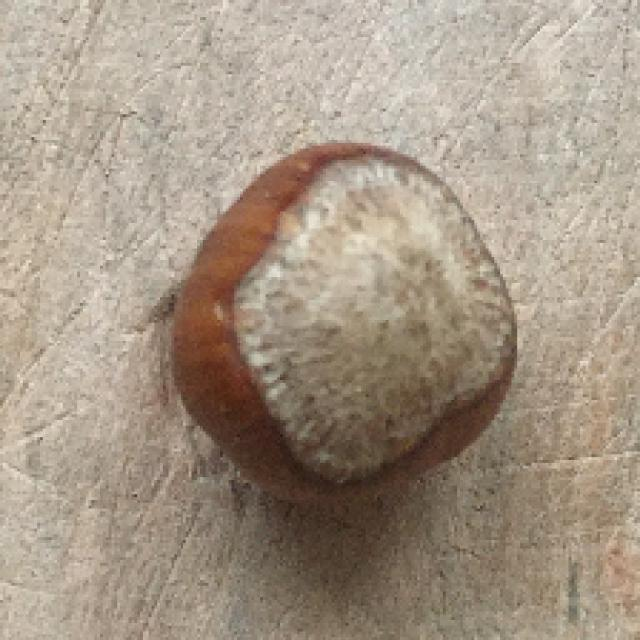QualityHazelnut: (168, 142, 521, 513)
